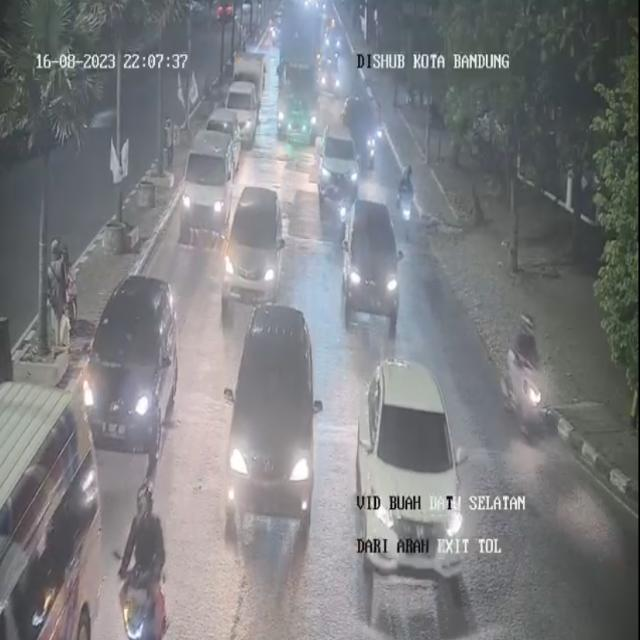cars: (362, 353, 465, 607), (0, 381, 98, 639), (222, 302, 321, 532), (80, 270, 182, 450), (344, 184, 404, 341), (224, 183, 288, 314), (181, 129, 232, 236), (323, 117, 361, 200), (224, 80, 259, 146), (206, 104, 242, 166), (234, 55, 270, 106)
motorcycle: (117, 491, 176, 639), (506, 314, 555, 436), (334, 167, 359, 255), (392, 164, 414, 233)
truck: (277, 9, 323, 151)
